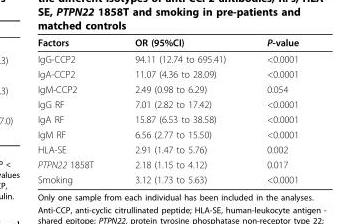table: (36, 36, 298, 184)
table column: (113, 36, 245, 184), (36, 36, 113, 184), (245, 36, 298, 184)
table column header: (36, 36, 298, 50)
table row: (36, 50, 298, 66), (36, 66, 298, 81), (36, 81, 298, 96), (36, 96, 298, 111), (36, 111, 298, 126), (36, 126, 298, 141), (36, 141, 298, 156), (36, 156, 298, 171), (36, 36, 298, 50), (36, 171, 298, 184)
